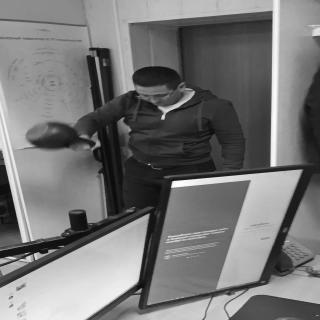kettlebell: (26, 121, 99, 152)
